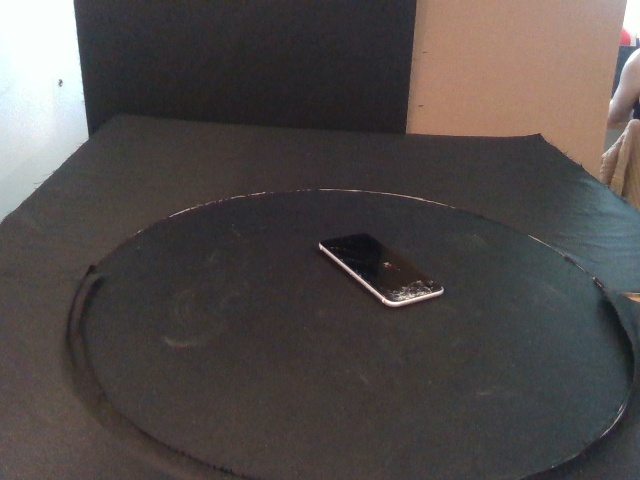phone: (317, 231, 444, 309)
